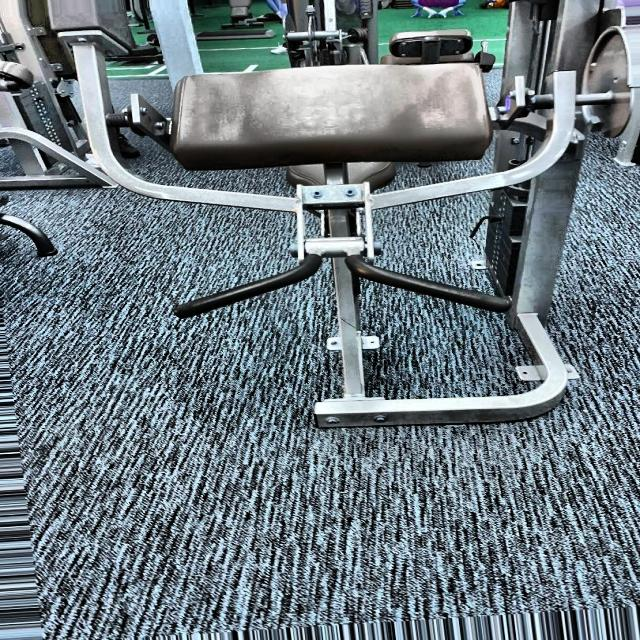bicep_curl_machine: (55, 56, 591, 431)
